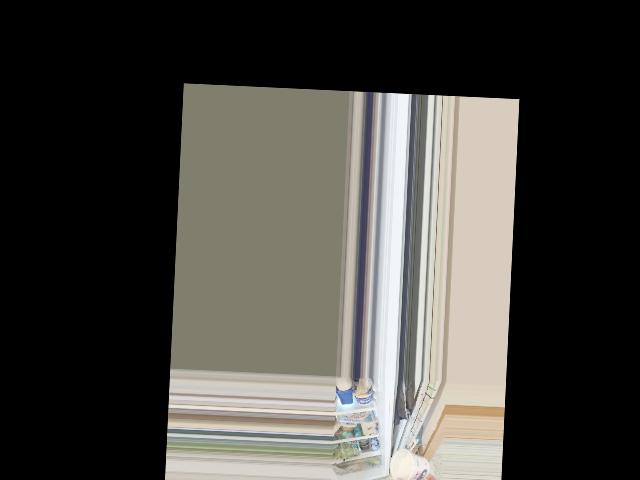cotage: (386, 450, 428, 480)
